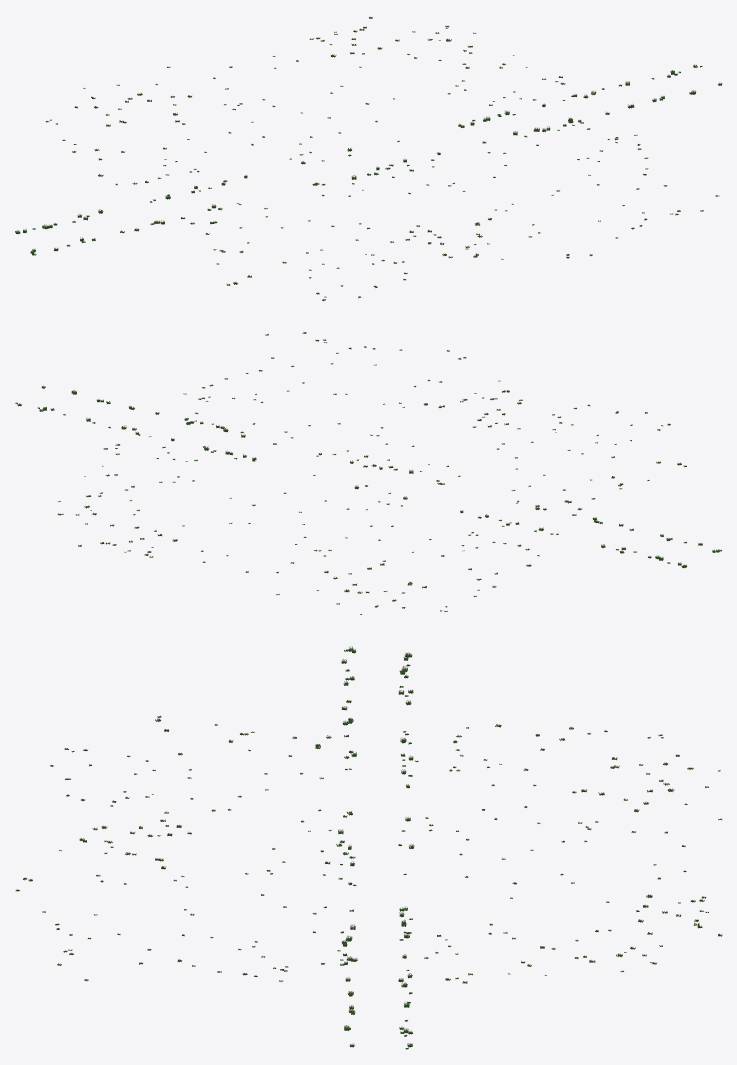
Rendered from duckov_grass_foliage_b.obj.
3 views of the same model, one above another, from view 1: azimuth 30°, elevation 25°; view 2: azimuth 150°, elevation 25°; view 3: azimuth 270°, elevation 25° (orthographic). The views are drawn at different scales.
Parts seen in each view (by area): view 1: DuckovGrassFoliageB; view 2: DuckovGrassFoliageB; view 3: DuckovGrassFoliageB.
Part boxes in pixels (x1,y1,x2,y2): DuckovGrassFoliageB: (15, 17, 722, 300); DuckovGrassFoliageB: (15, 332, 721, 614); DuckovGrassFoliageB: (15, 646, 722, 1049).
Size of the model in its own units: 116 by 0.8316 by 86.72.
Materials: 1 (1 with a texture image).
